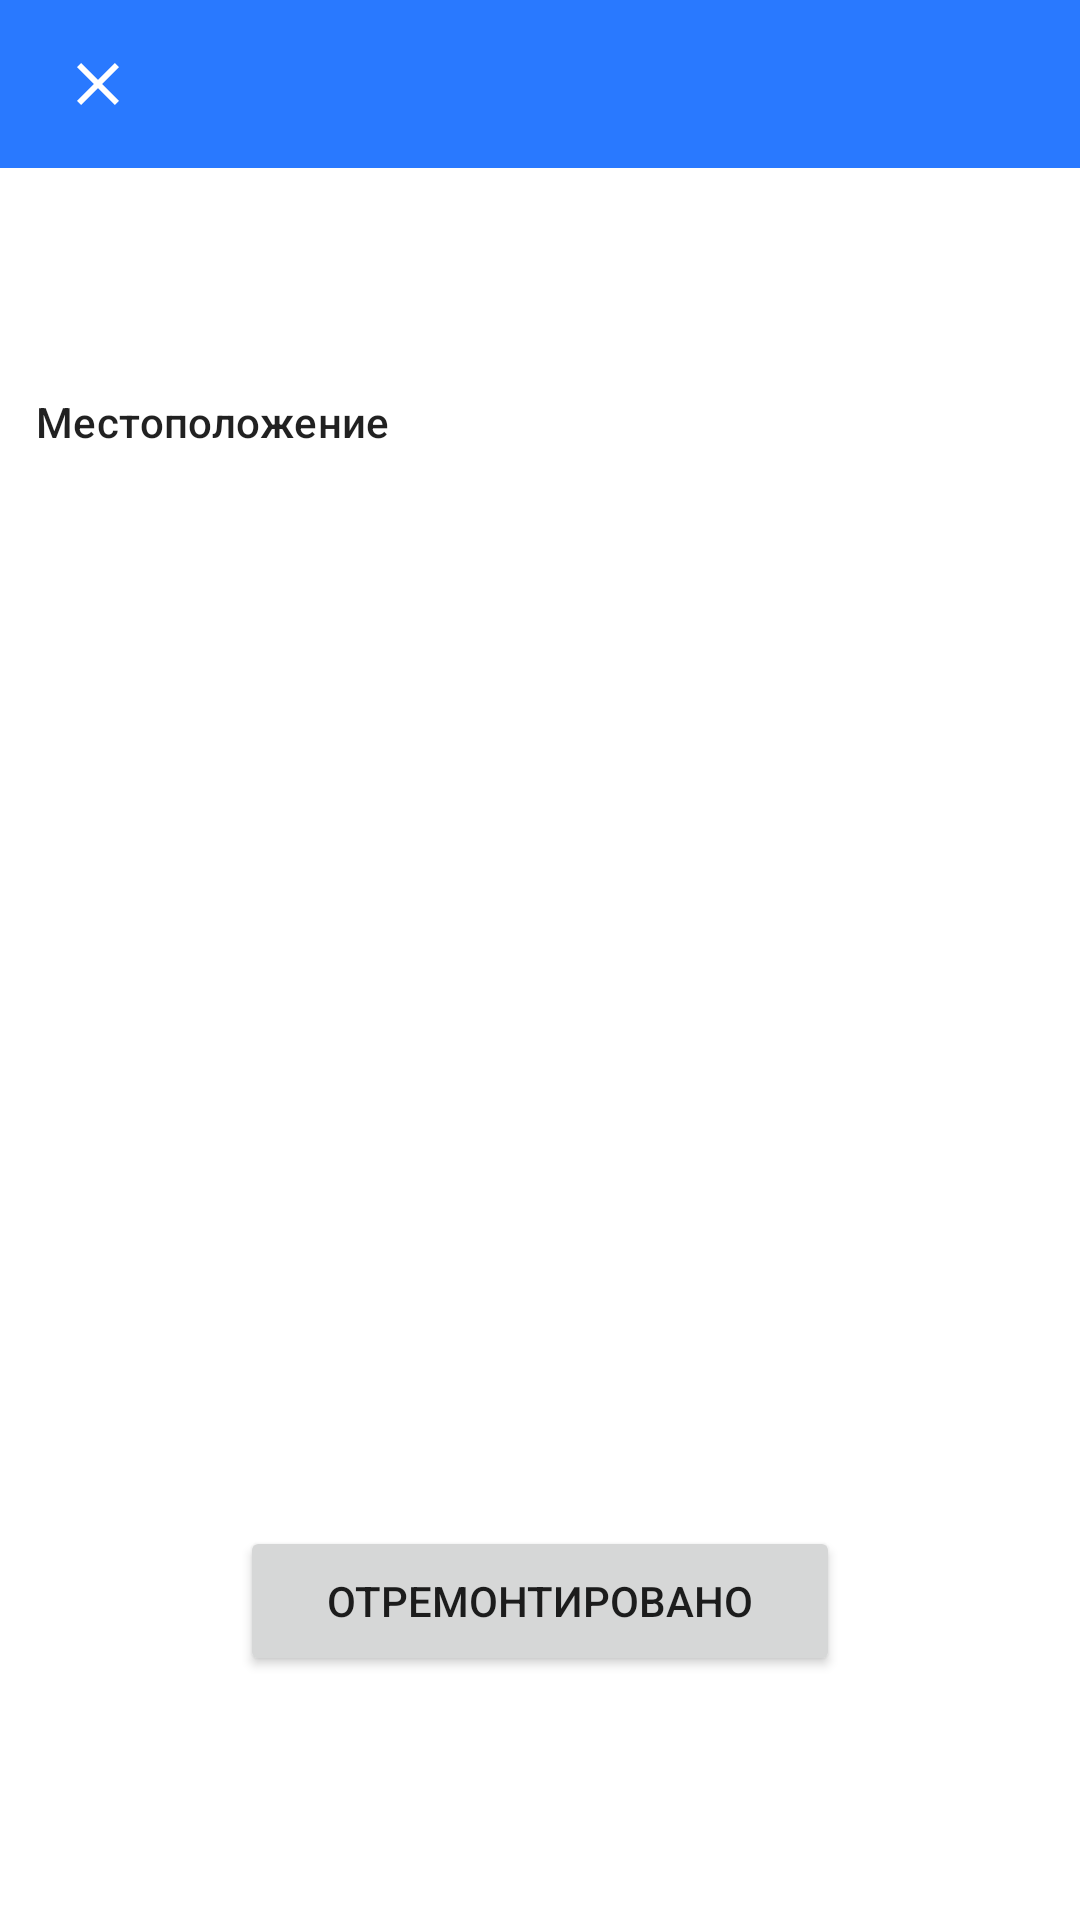

Icon click points for this 1080x1920 phone screenshot, format point (x, y):
close: point (98, 84)
